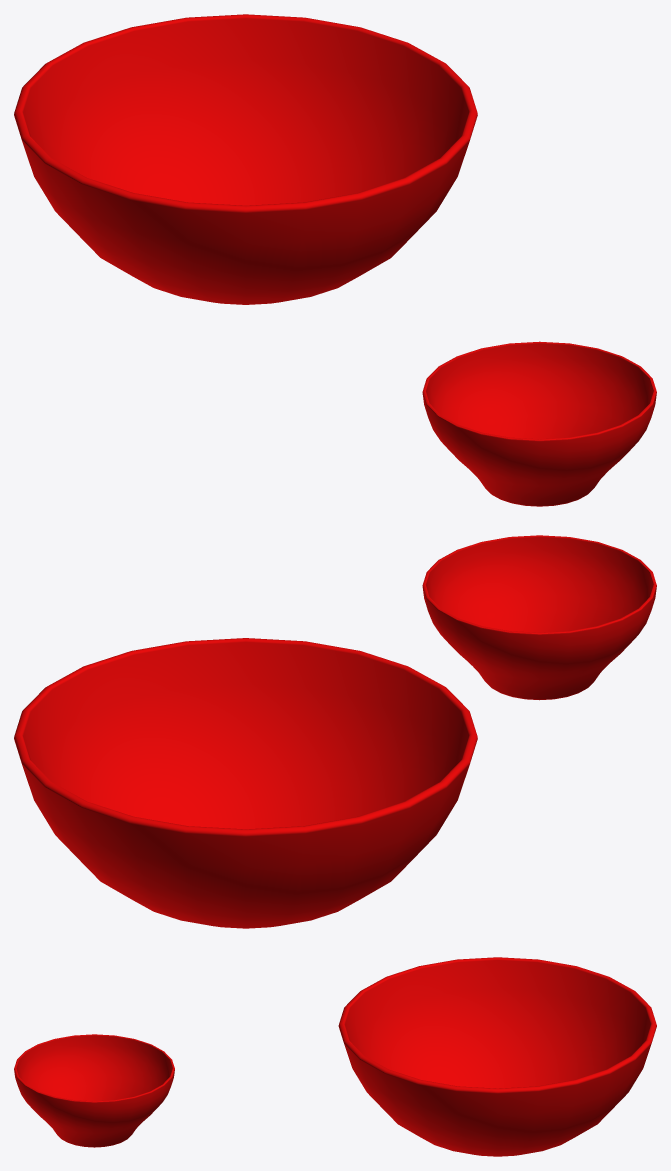
Rendered from thorkea_bowls_grp.fbx.
3 renders of one model, top to bottom at view 1: azimuth 30°, elevation 25°; view 2: azimuth 150°, elevation 25°; view 3: azimuth 270°, elevation 25°, orthographic. The views are drawn at different scales.
Parts seen in each view (by area): view 1: thorkea_bowl_arbete, thorkea_bowl_ai2; view 2: thorkea_bowl_arbete, thorkea_bowl_ai2; view 3: thorkea_bowl_arbete, thorkea_bowl_ai2.
Boxes of the visible parts, bbox=[...] form: thorkea_bowl_arbete: bbox=[14, 14, 477, 304]; thorkea_bowl_ai2: bbox=[422, 341, 656, 506]; thorkea_bowl_arbete: bbox=[14, 638, 477, 928]; thorkea_bowl_ai2: bbox=[422, 535, 656, 700]; thorkea_bowl_arbete: bbox=[338, 957, 656, 1156]; thorkea_bowl_ai2: bbox=[14, 1034, 174, 1147].
Size of the model in its own units: 31.58 by 11.9 by 63.78.
